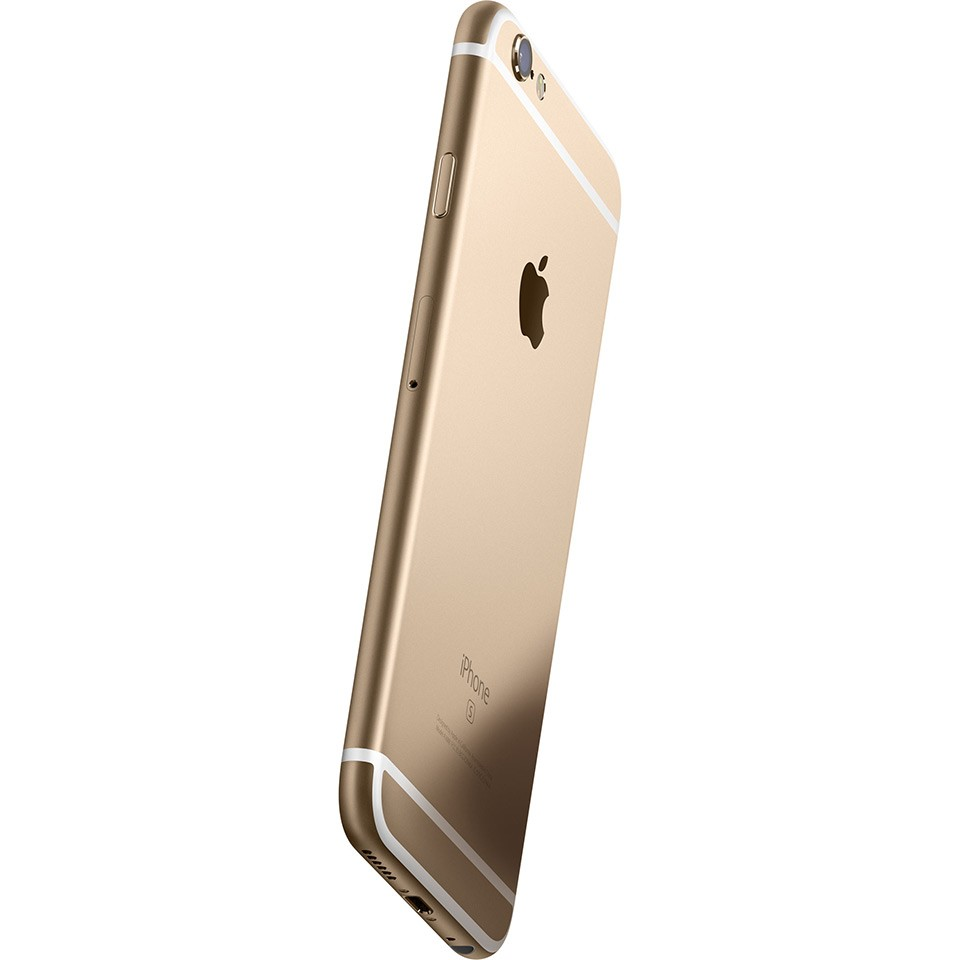Apple: (506, 240, 562, 358)
